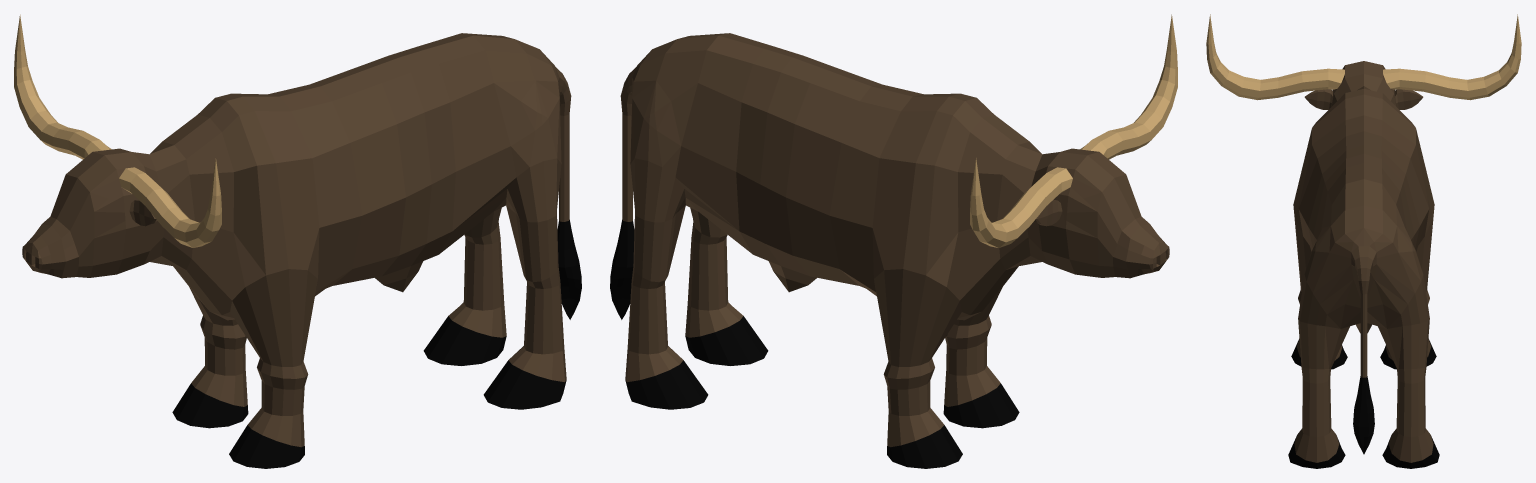
File: LongHorn.fbx
The picture shows the model from 3 angles, left to right: view 1: azimuth 30°, elevation 25°; view 2: azimuth 150°, elevation 25°; view 3: azimuth 270°, elevation 25°; orthographic projection. The views are drawn at different scales.
Visible parts, largest first — view 1: LongHorn; view 2: LongHorn; view 3: LongHorn.
Boxes of the visible parts, box(x1,y1,x2,y2) form: LongHorn: box(14, 14, 581, 468); LongHorn: box(610, 14, 1177, 468); LongHorn: box(1206, 14, 1521, 468).
Bounding box in the file's own units: 0.8636 × 0.5685 × 0.5454.
